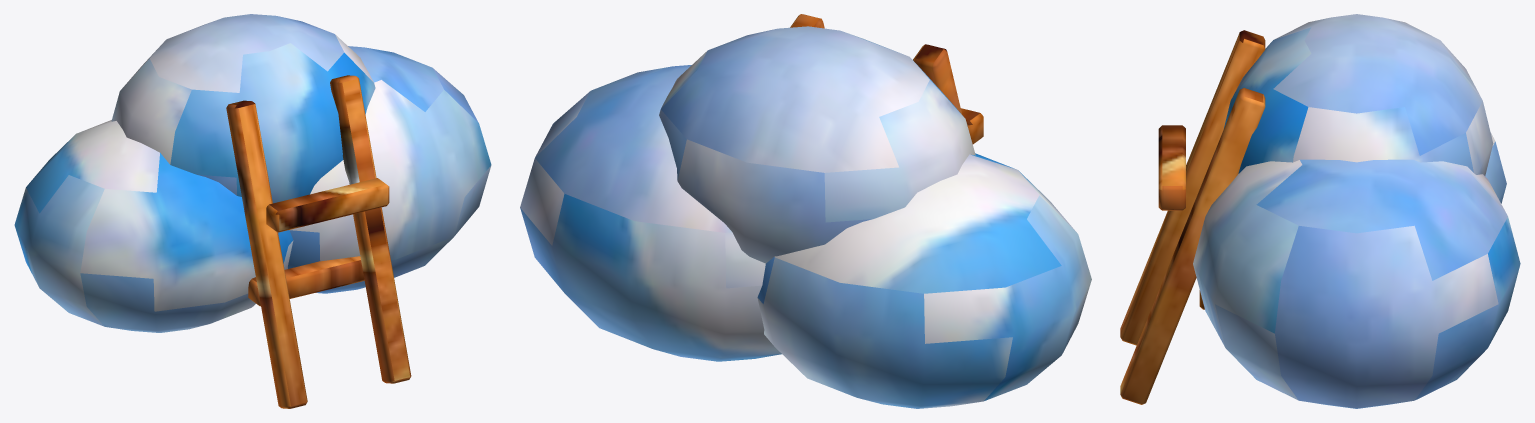
Rendered from deco_nubes_flora.glb.
The picture shows the model from 3 angles, left to right: view 1: azimuth 30°, elevation 25°; view 2: azimuth 150°, elevation 25°; view 3: azimuth 270°, elevation 25°; orthographic projection. The views are drawn at different scales.
Visible parts, largest first — view 1: deco_nubes_flora; view 2: deco_nubes_flora; view 3: deco_nubes_flora.
Part boxes in pixels (left/top/right/bottom): deco_nubes_flora: left=14, top=14, right=491, bottom=408; deco_nubes_flora: left=520, top=14, right=1091, bottom=408; deco_nubes_flora: left=1120, top=14, right=1520, bottom=408.
Size of the model in its own units: 1 by 0.6388 by 0.6817.
Materials: 2 (2 with a texture image).
